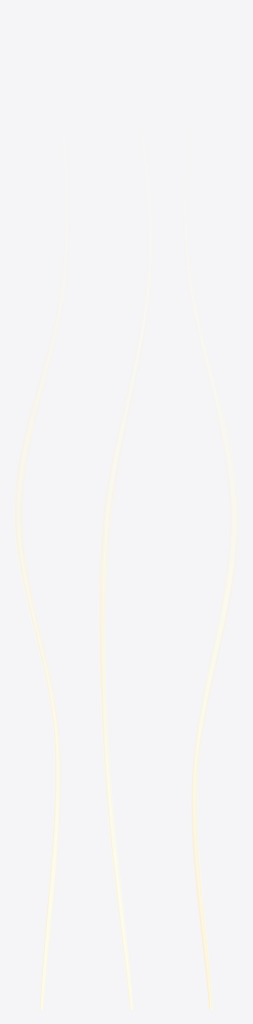
Rendered from strand_d_danger.glb.
The picture shows the model from 3 angles, left to right: view 1: azimuth 90°, elevation 25°; view 2: azimuth 150°, elevation 25°; view 3: azimuth 270°, elevation 25°; orthographic projection.
Size of the model in its own units: 0.3336 by 7 by 0.3586.
